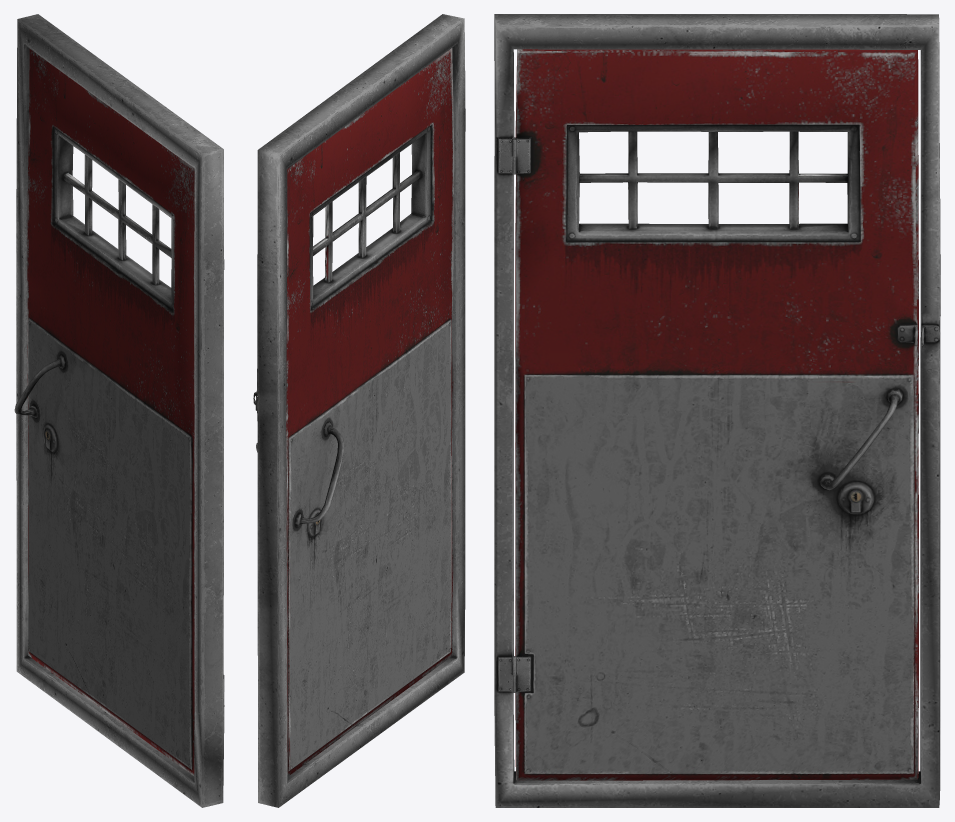
The model's file is metal_door.glb.
3 views of the same model, side by side, from view 1: azimuth 30°, elevation 25°; view 2: azimuth 150°, elevation 25°; view 3: azimuth 270°, elevation 25° (orthographic). The views are drawn at different scales.
Visible parts, largest first — view 1: Door; view 2: Door; view 3: Door.
Part boxes in pixels (x1,y1,x2,y2): Door: (14,14,224,807); Door: (253,14,465,807); Door: (494,14,940,807).
Bounding box in the file's own units: 0.2563 × 2.1 × 1.09.
Materials: 1 (1 with a texture image).
